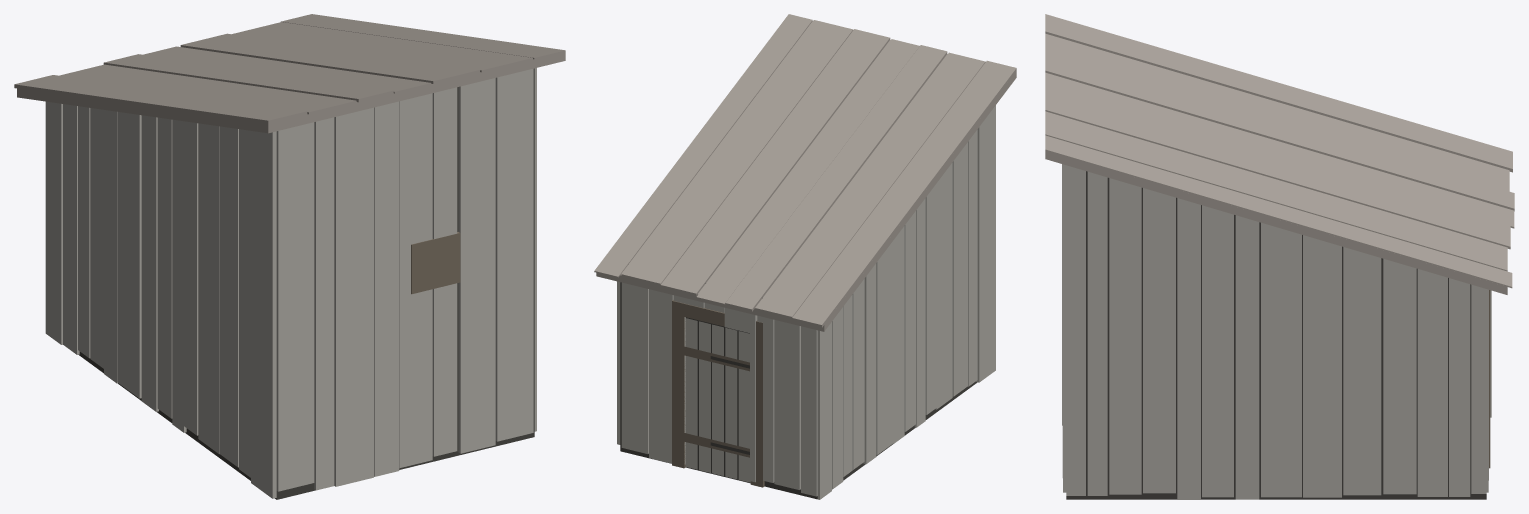
File: recon_1835_north_a4_052__inferred_1835.glb
3 views of the same model, side by side, from view 1: azimuth 30°, elevation 25°; view 2: azimuth 150°, elevation 25°; view 3: azimuth 270°, elevation 25° (orthographic). The views are drawn at different scales.
Visible parts, largest first — view 1: recon_1835_north_a4_052__inferred_1835; view 2: recon_1835_north_a4_052__inferred_1835; view 3: recon_1835_north_a4_052__inferred_1835.
Part boxes in pixels (bbox=[...]): recon_1835_north_a4_052__inferred_1835: bbox=[14, 14, 565, 499]; recon_1835_north_a4_052__inferred_1835: bbox=[594, 14, 1016, 499]; recon_1835_north_a4_052__inferred_1835: bbox=[1045, 14, 1514, 499].
Size of the model in its own units: 2.96 by 3.73 by 4.39.
